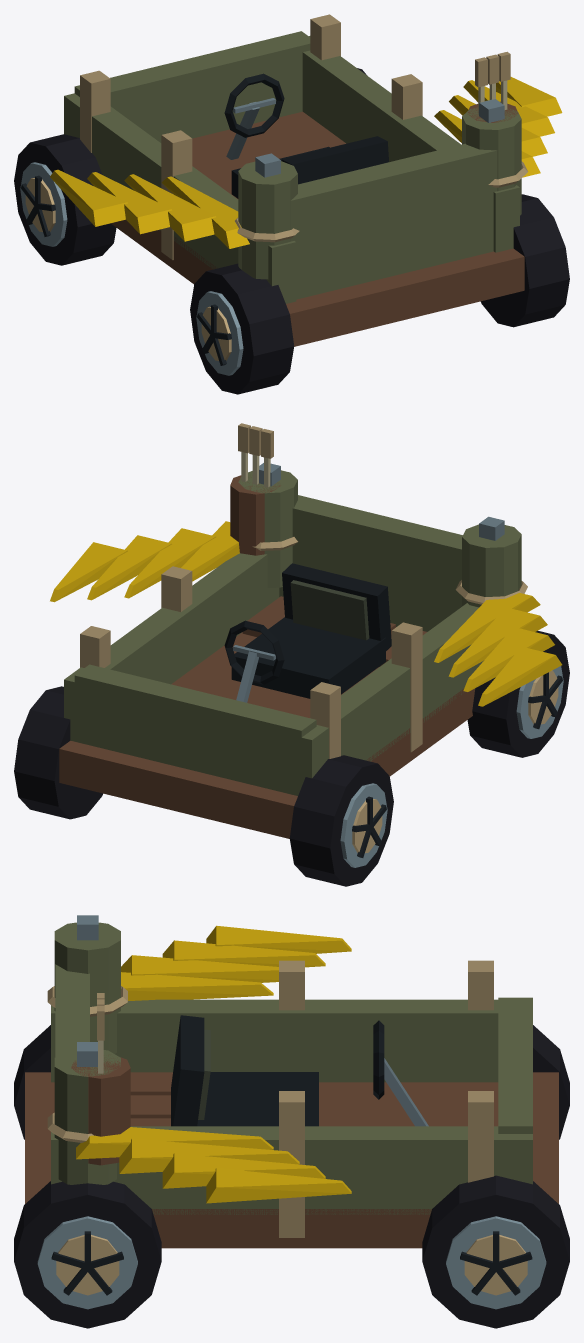
The model's file is kart.glb.
3 renders of one model, top to bottom at view 1: azimuth 30°, elevation 25°; view 2: azimuth 150°, elevation 25°; view 3: azimuth 270°, elevation 25°, orthographic. The views are drawn at different scales.
Visible parts, largest first — view 1: identity-wagon-wagon-timber-coach, identity-wagon-motif-wings-feather, wheel-rear-left, identity-wagon-motif-tanks, wheel-front-left, wheel-rear-right, identity-wagon-driver-cockpit, identity-wagon-motif-quiver; view 2: identity-wagon-wagon-timber-coach, identity-wagon-motif-wings-feather, identity-wagon-driver-cockpit, wheel-front-left, identity-wagon-motif-tanks, wheel-rear-left, wheel-front-right, identity-wagon-motif-quiver; view 3: identity-wagon-wagon-timber-coach, identity-wagon-motif-wings-feather, wheel-front-right, wheel-rear-right, identity-wagon-motif-tanks, identity-wagon-driver-cockpit, identity-wagon-motif-quiver, wheel-front-left, wheel-rear-left.
Part boxes in pixels (x1,y1,x2,y2): identity-wagon-wagon-timber-coach: [64, 14, 524, 346]; identity-wagon-motif-wings-feather: [50, 77, 562, 248]; wheel-rear-left: [190, 263, 294, 394]; identity-wagon-motif-tanks: [235, 99, 527, 279]; wheel-front-left: [14, 134, 116, 265]; wheel-rear-right: [480, 194, 569, 327]; identity-wagon-driver-cockpit: [224, 73, 388, 198]; identity-wagon-motif-quiver: [467, 51, 518, 122]; identity-wagon-wagon-timber-coach: [59, 495, 483, 838]; identity-wagon-motif-wings-feather: [50, 521, 562, 706]; identity-wagon-driver-cockpit: [224, 563, 391, 702]; wheel-front-left: [289, 755, 393, 886]; identity-wagon-motif-tanks: [238, 463, 527, 607]; wheel-rear-left: [467, 631, 569, 757]; wheel-front-right: [14, 686, 102, 819]; identity-wagon-motif-quiver: [230, 423, 280, 555]; identity-wagon-wagon-timber-coach: [25, 960, 558, 1248]; identity-wagon-motif-wings-feather: [76, 925, 351, 1203]; wheel-front-right: [422, 1175, 569, 1328]; wheel-rear-right: [14, 1181, 161, 1328]; identity-wagon-motif-tanks: [47, 915, 127, 1184]; identity-wagon-driver-cockpit: [171, 1015, 428, 1126]; identity-wagon-motif-quiver: [71, 993, 130, 1165]; wheel-front-left: [533, 1025, 569, 1139]; wheel-rear-left: [14, 1025, 50, 1139].
Size of the model in its own units: 2.88 by 1.54 by 2.56.
